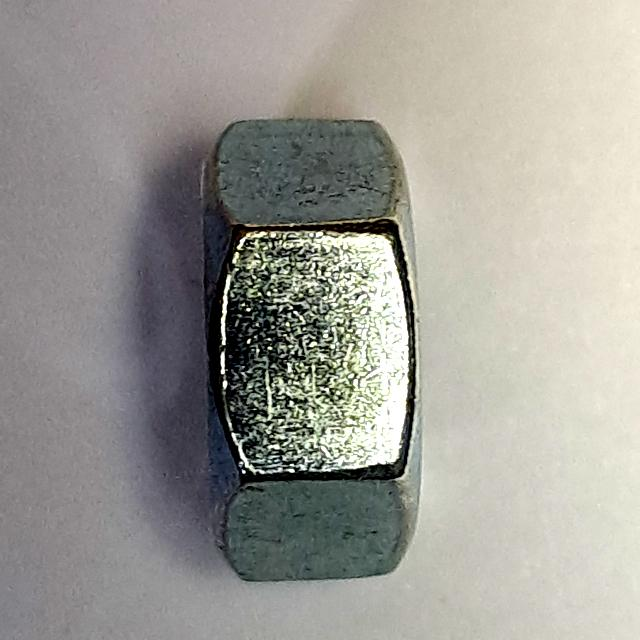Side_Excellent: (175, 109, 436, 601)
